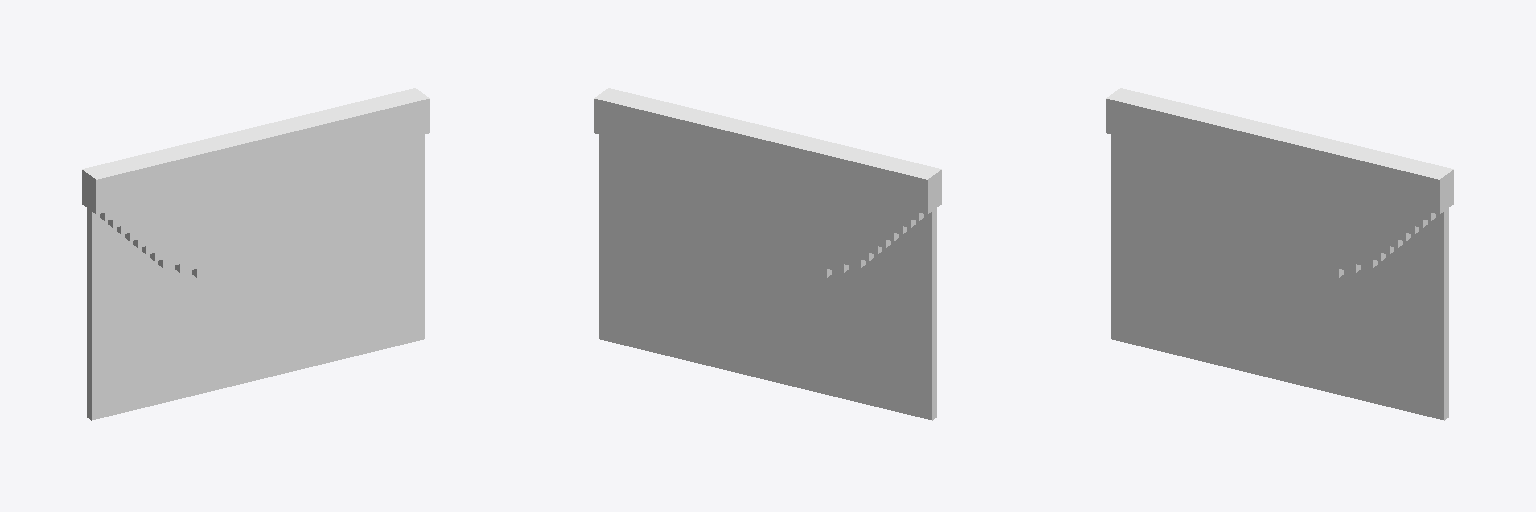
File: mail.obj
The picture shows the model from 3 angles: view 1: azimuth 30°, elevation 25°; view 2: azimuth 150°, elevation 25°; view 3: azimuth 330°, elevation 25°; orthographic projection.
Parts seen in each view (by area): view 1: object 1; view 2: object 1; view 3: object 1.
Boxes of the visible parts, <box> form: object 1: <box>82,88,429,420</box>; object 1: <box>594,88,941,420</box>; object 1: <box>1106,88,1453,420</box>.
Bounding box in the file's own units: 4 × 2.8 × 0.3.